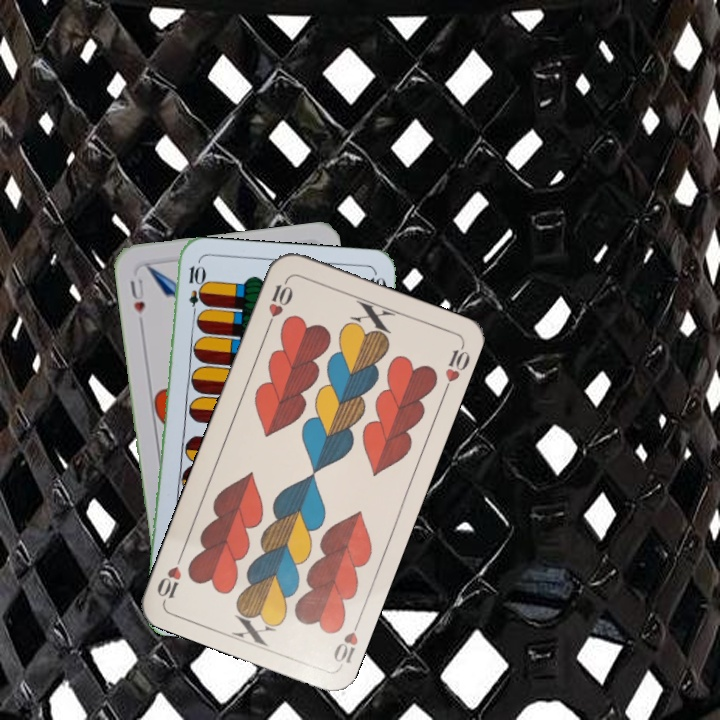E10: (184, 262, 204, 321)
H10: (263, 274, 296, 331), (329, 613, 364, 666)
HU: (125, 274, 148, 317)
